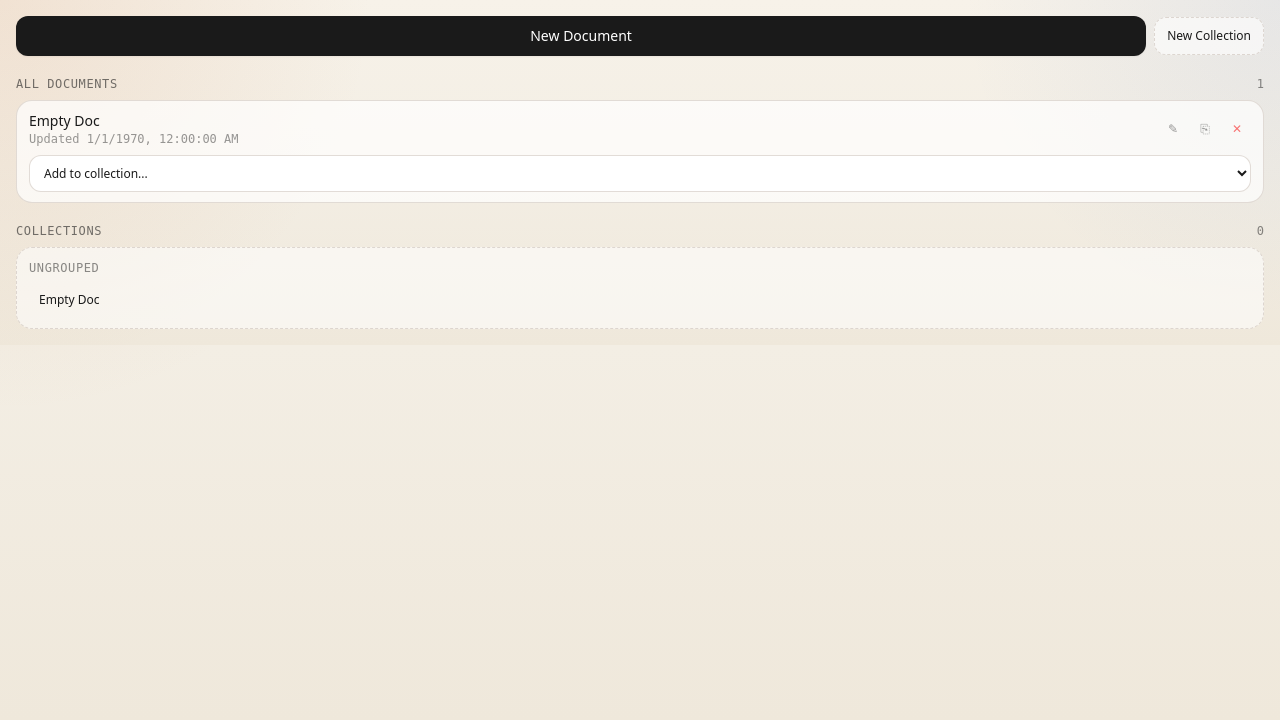
Test case: DocumentHubSidebar delete confirmation gate (#110) › does not mention an annotation count when the document has none
The image size is (1280, 720).
Click the button named "Delete document". click: {"x": 1237, "y": 129}
box: [1223,115,1251,143]
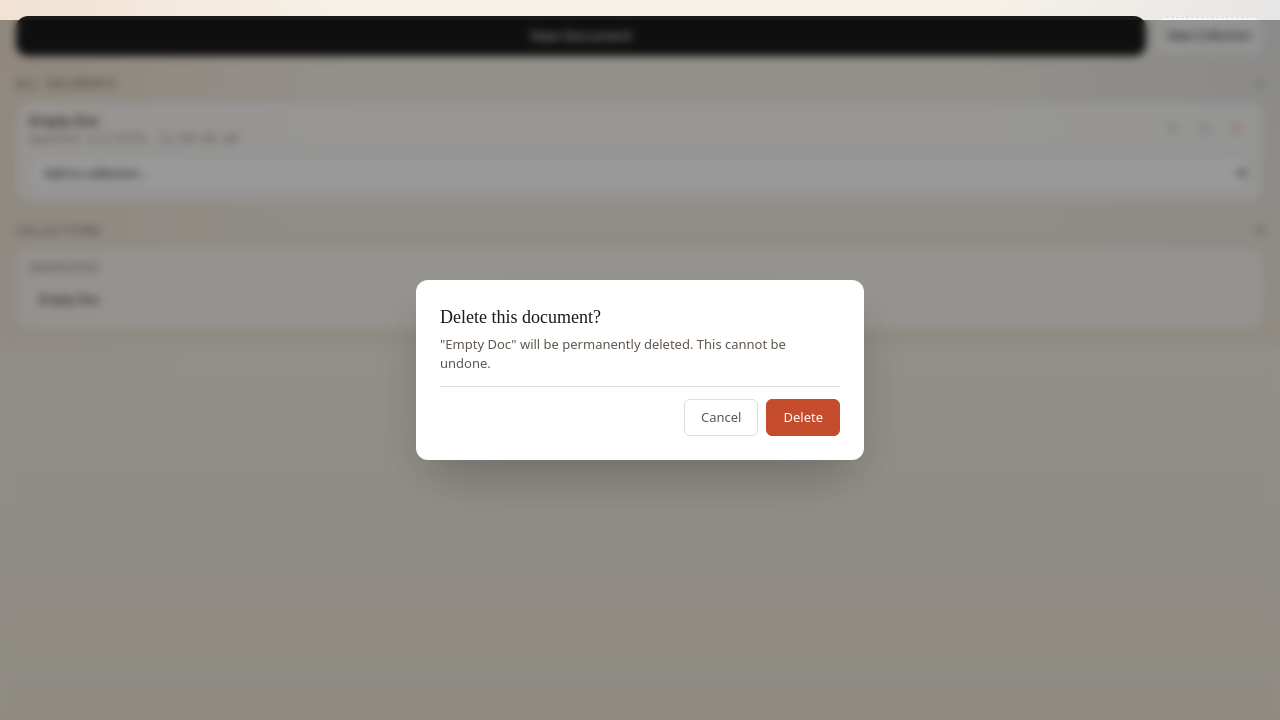
Now the text with class "confirmation-description" shows "Empty Doc", box [440,335,786,372]
